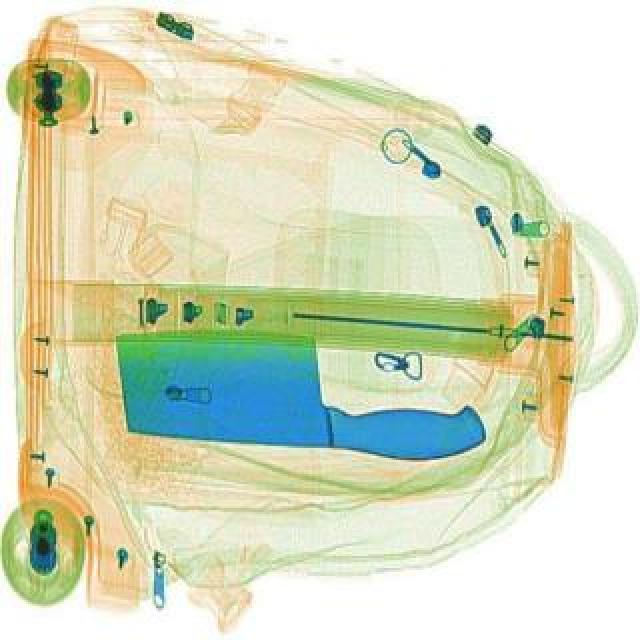knife: (110, 326, 490, 466)
